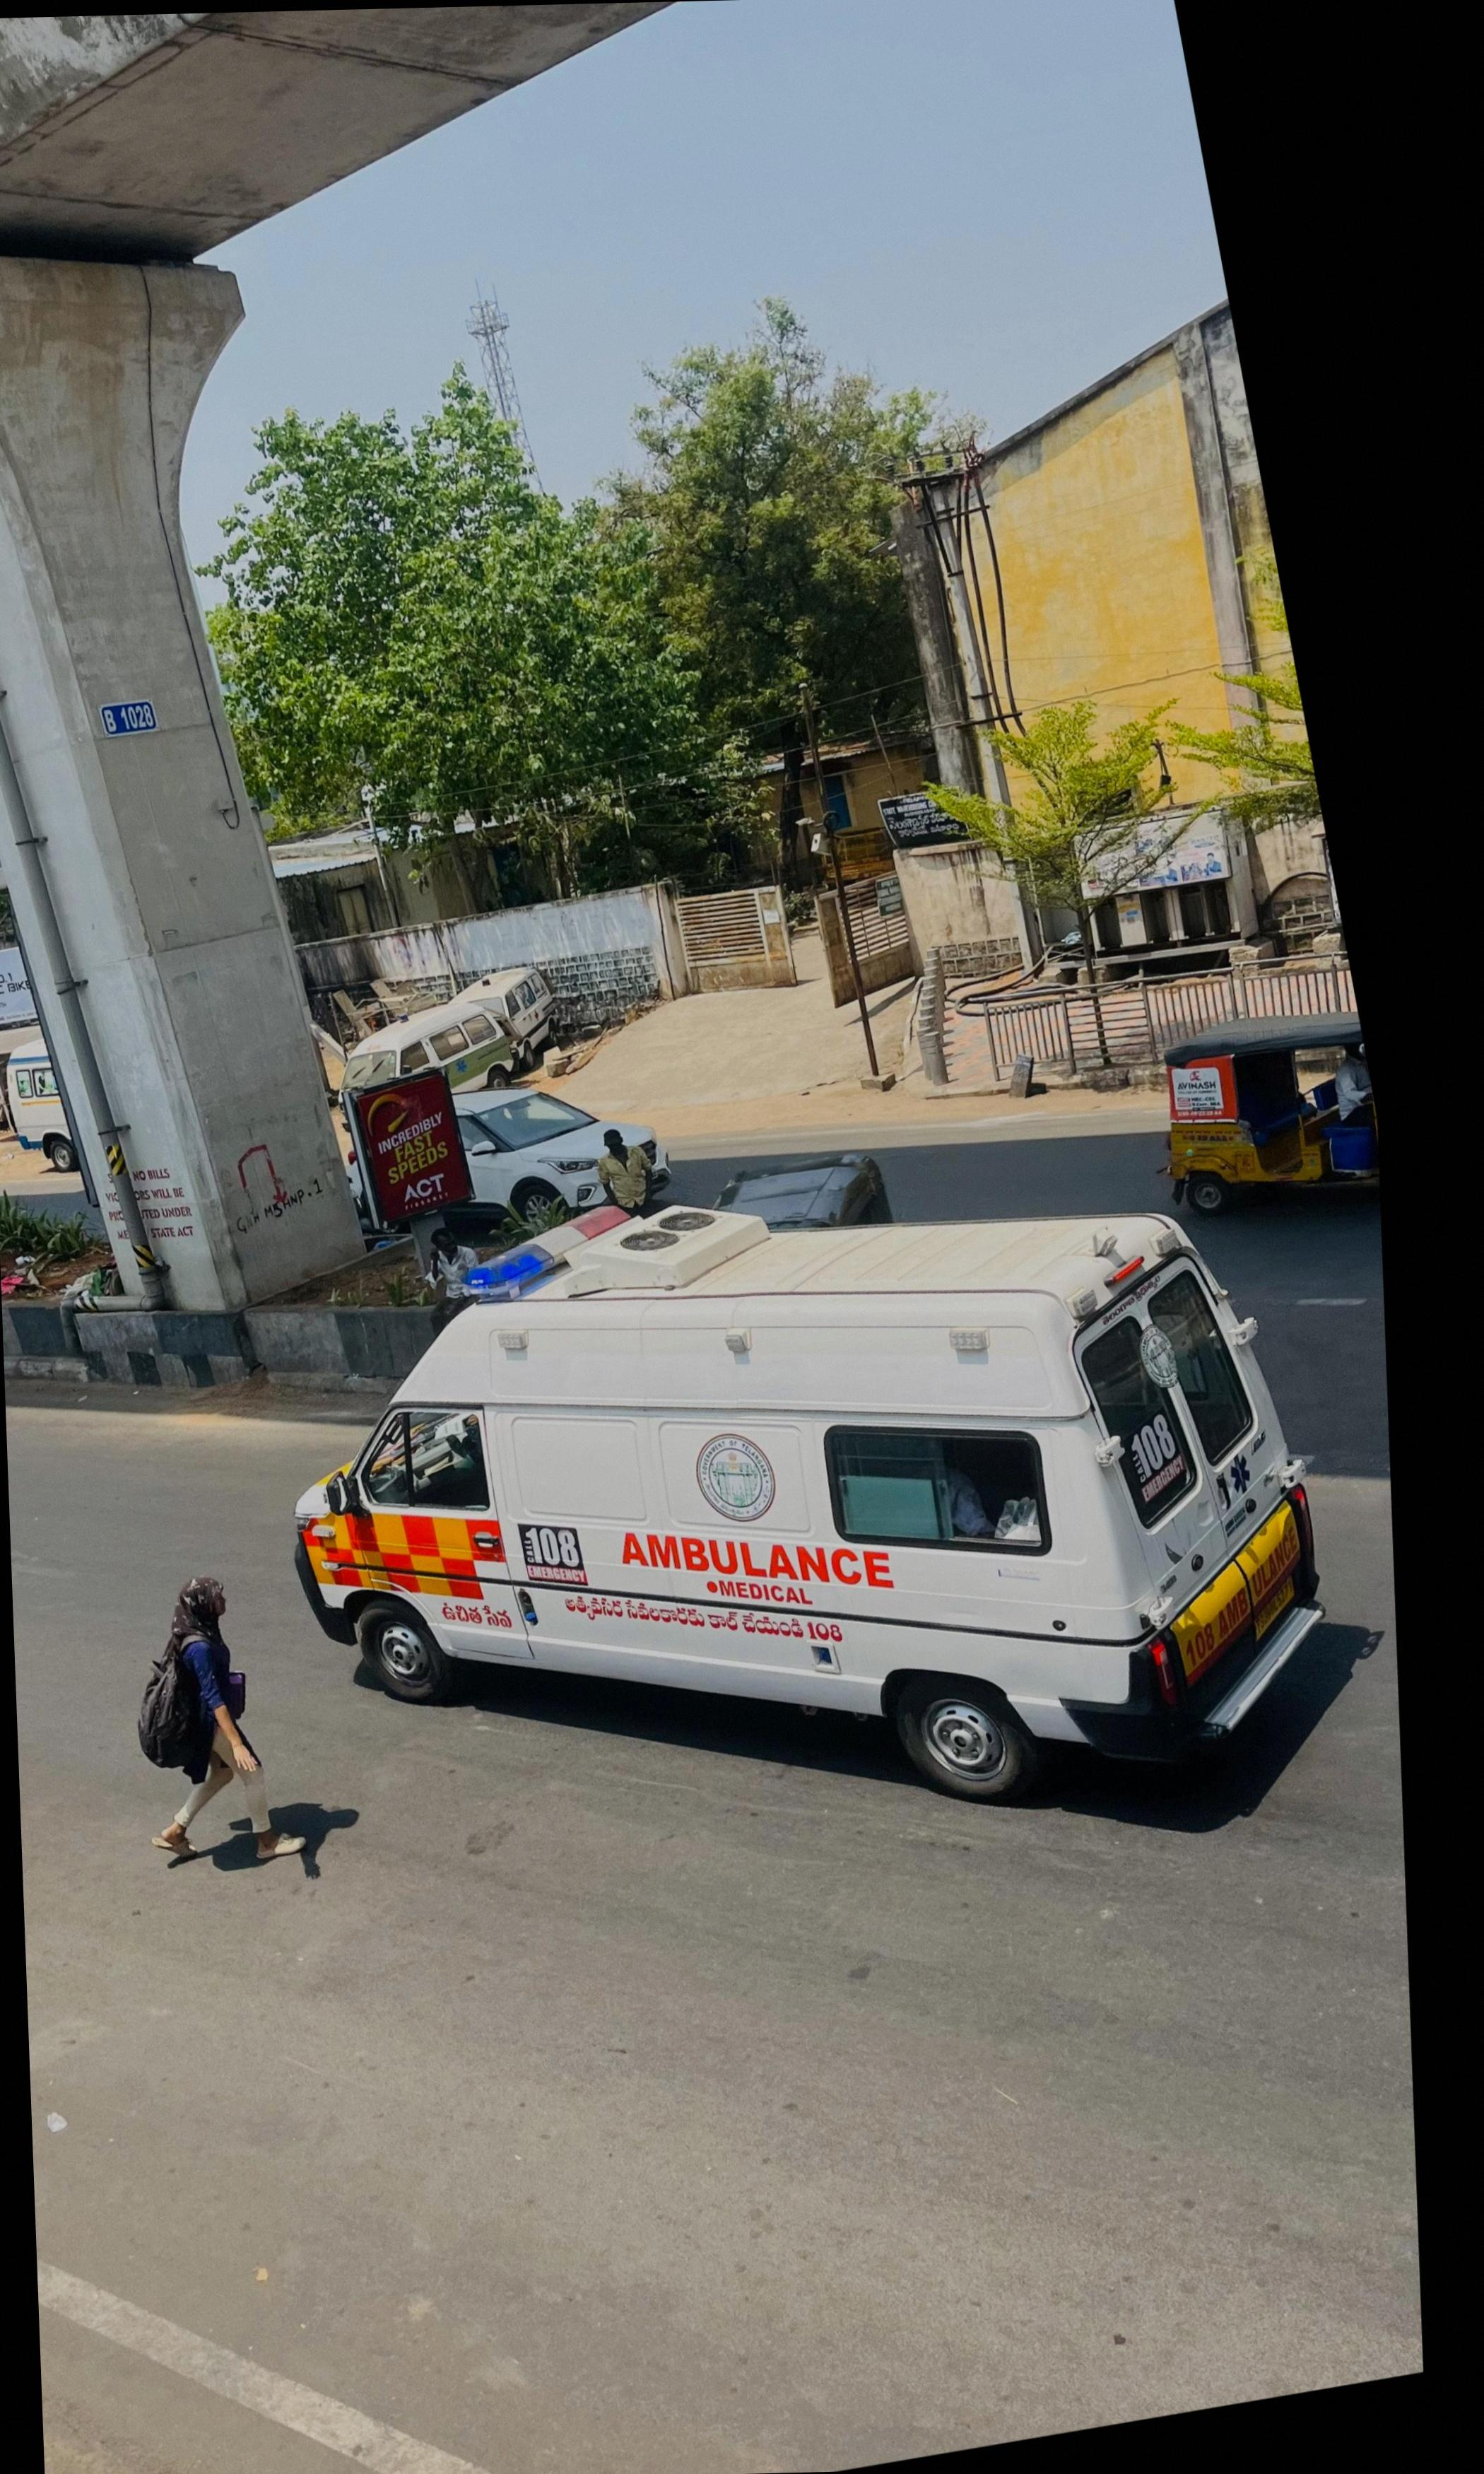ambulance: (291, 1195, 1323, 1810)
